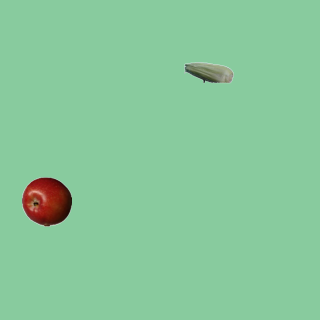Apple Braeburn: (21, 176, 71, 226)
Corn Husk: (183, 47, 233, 97)
